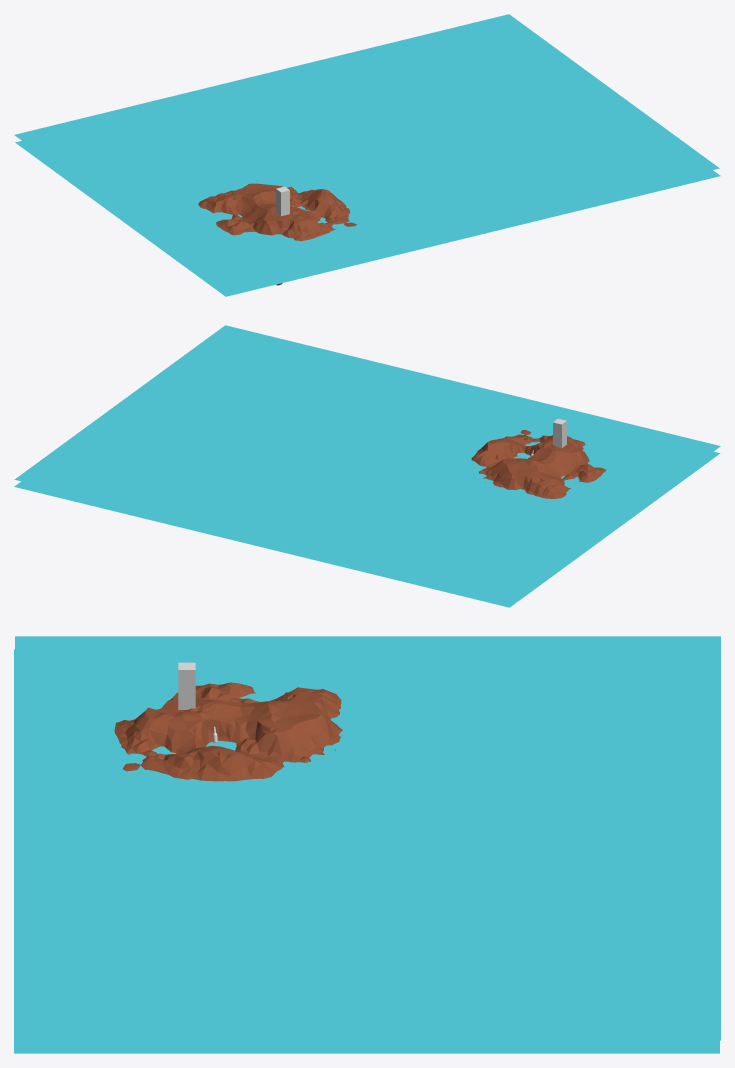
Rendered from island_for bottle and tree.fbx.
3 views of the same model, one above another, from view 1: azimuth 30°, elevation 25°; view 2: azimuth 150°, elevation 25°; view 3: azimuth 270°, elevation 25° (orthographic). The views are drawn at different scales.
Parts seen in each view (by area): view 1: Water, Water.001, Landscape.006; view 2: Water, Landscape.006, Water.001; view 3: Water, Landscape.006, Water.001, Danas Tree.
Part boxes in pixels (x1,y1,x2,y2): Water: [14, 14, 719, 288]; Water.001: [15, 141, 720, 296]; Landscape.006: [198, 183, 356, 241]; Water: [14, 325, 720, 600]; Landscape.006: [471, 430, 605, 498]; Water.001: [14, 451, 720, 607]; Water: [15, 636, 720, 1040]; Landscape.006: [114, 682, 342, 781]; Water.001: [14, 649, 719, 1053]; Danas Tree: [178, 662, 195, 709].
Bounding box in the file's own units: 54625 × 10941 × 40296.
